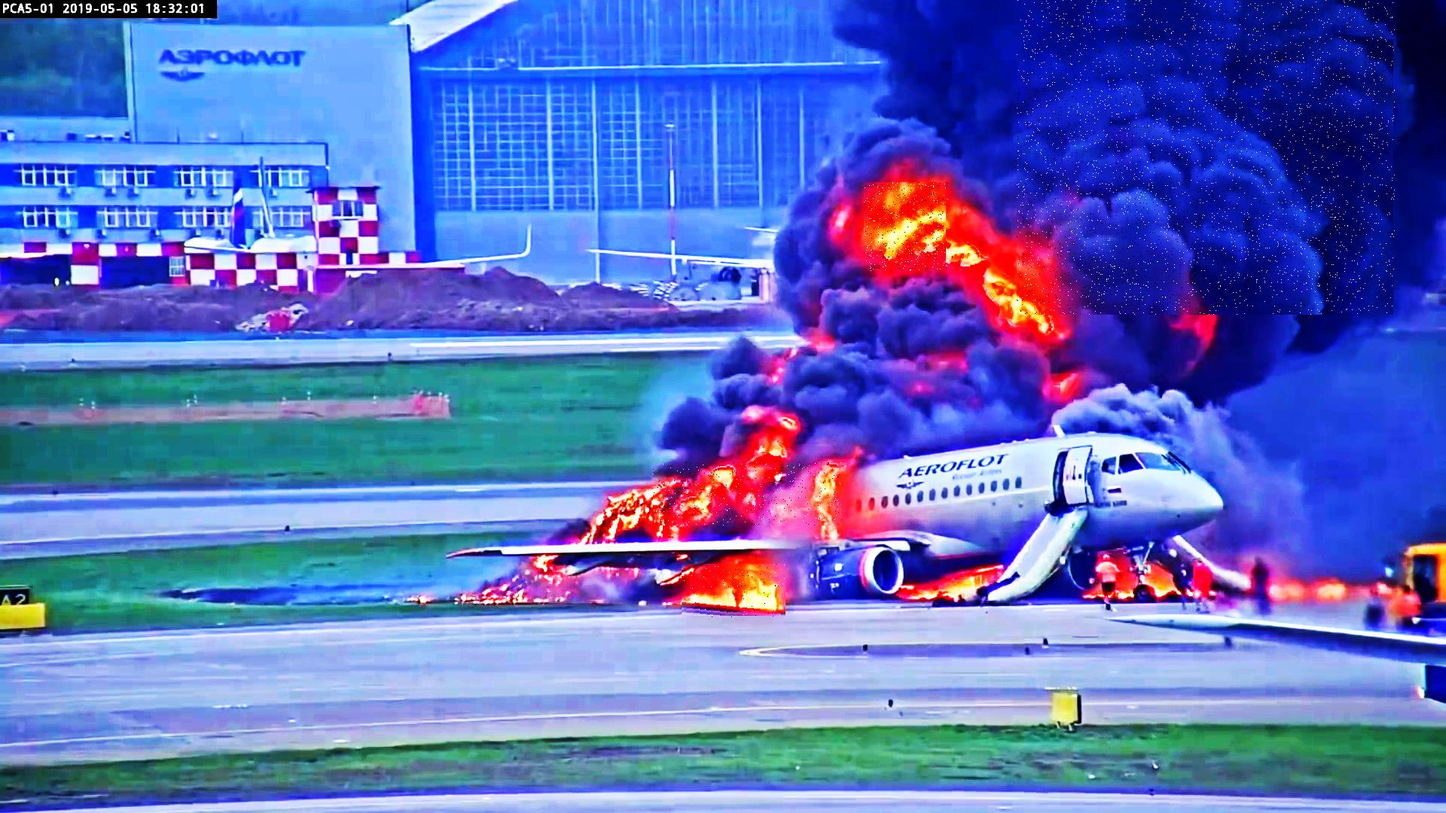fire: (654, 462, 844, 526), (865, 183, 948, 272), (682, 565, 786, 618)
smoke: (1017, 0, 1395, 315)
